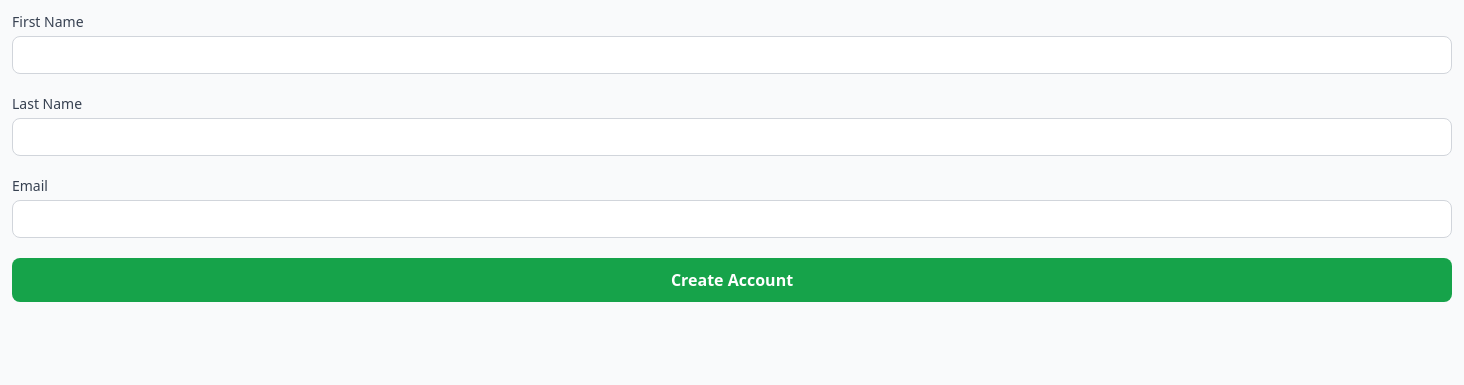
RegisterForm › shows generic error banner for non-field, non-409 errors
Type "Jane" into the field labelled "First Name" at (732, 55), box [12,36,1452,74]
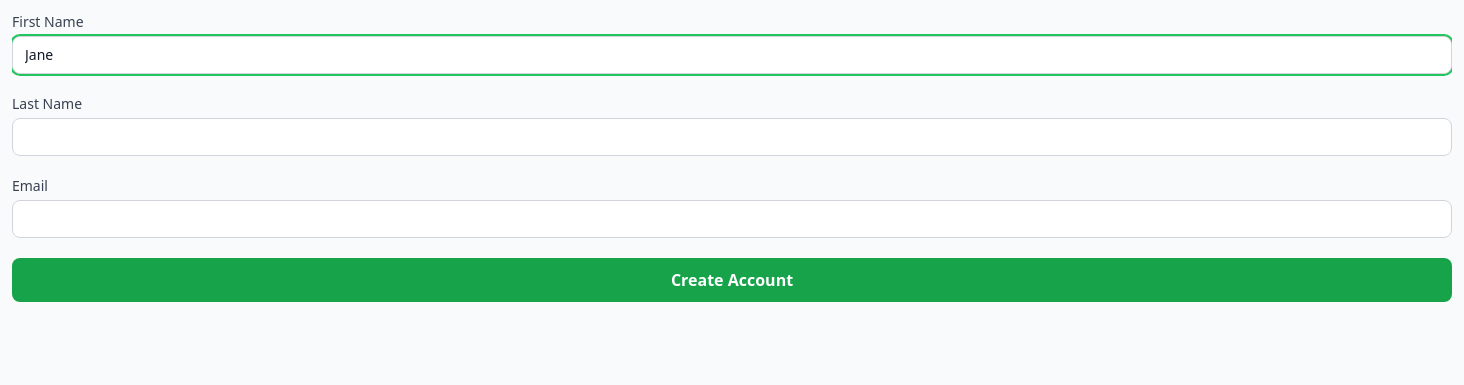
Type "Smith" into the field labelled "Last Name" at (732, 137), box [12,118,1452,156]
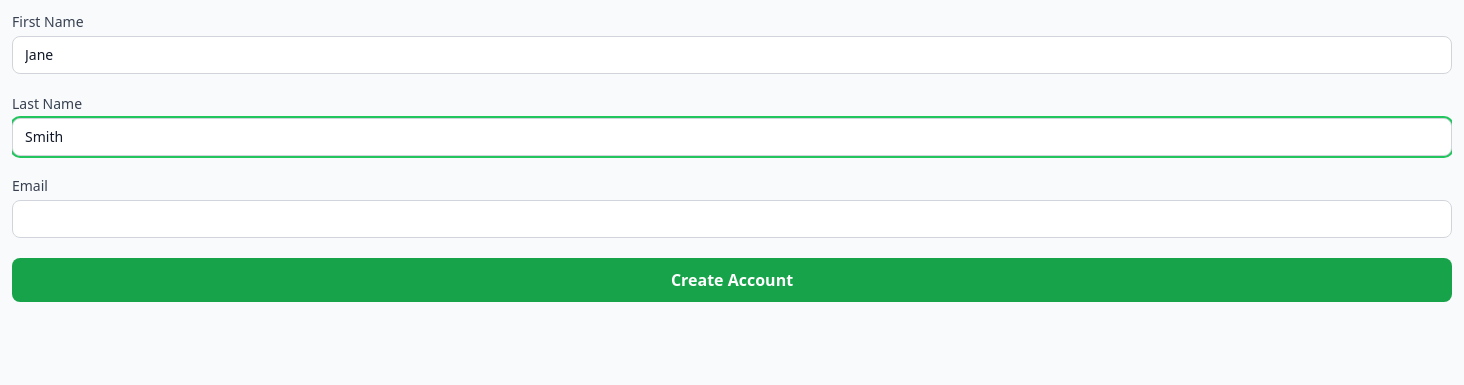
Type "jane@example.com" into the field labelled "Email" at (732, 219), box [12,200,1452,238]
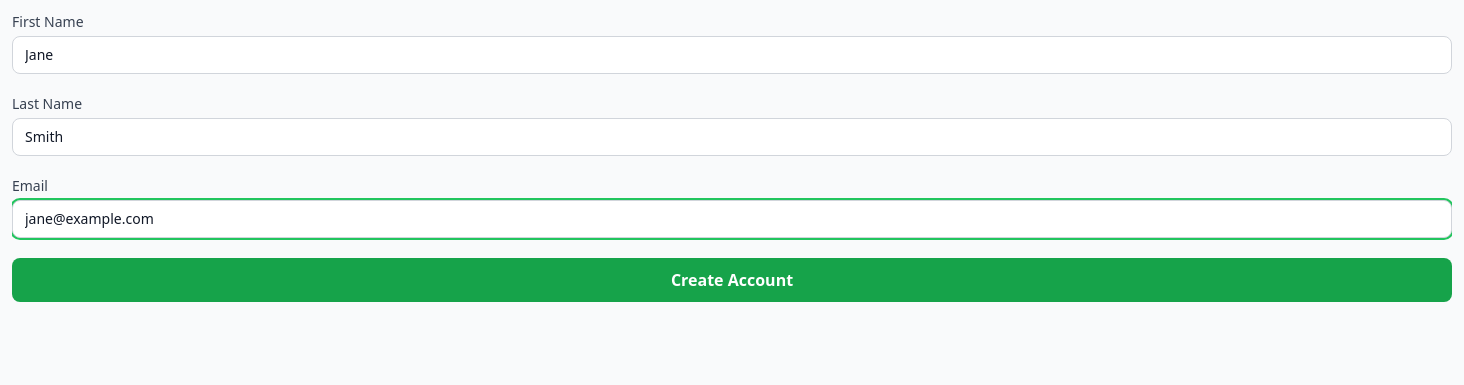
Click the button "Create Account" at (732, 280), box [12,258,1452,302]
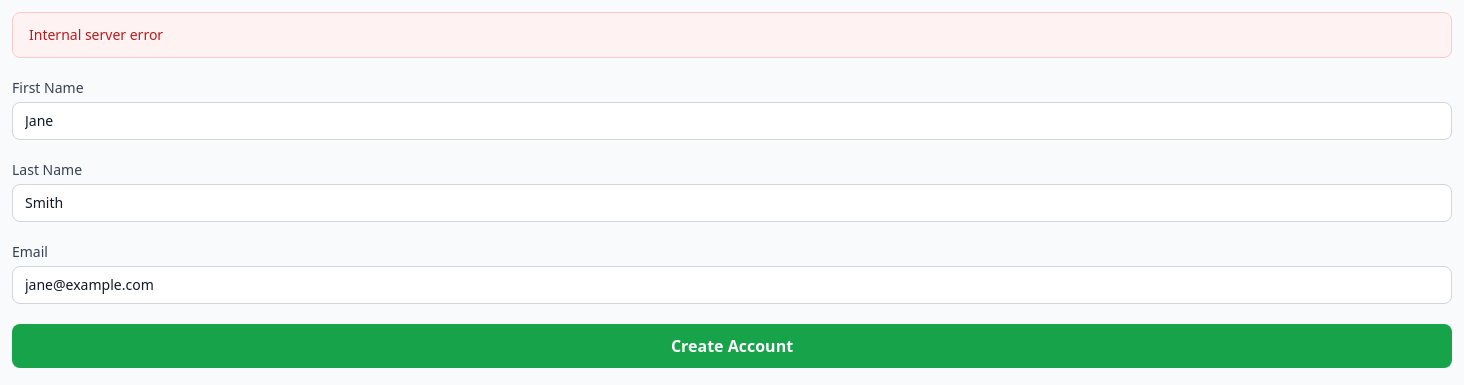
Expected: the text "Internal server error" is shown, [12,12,1452,58]
